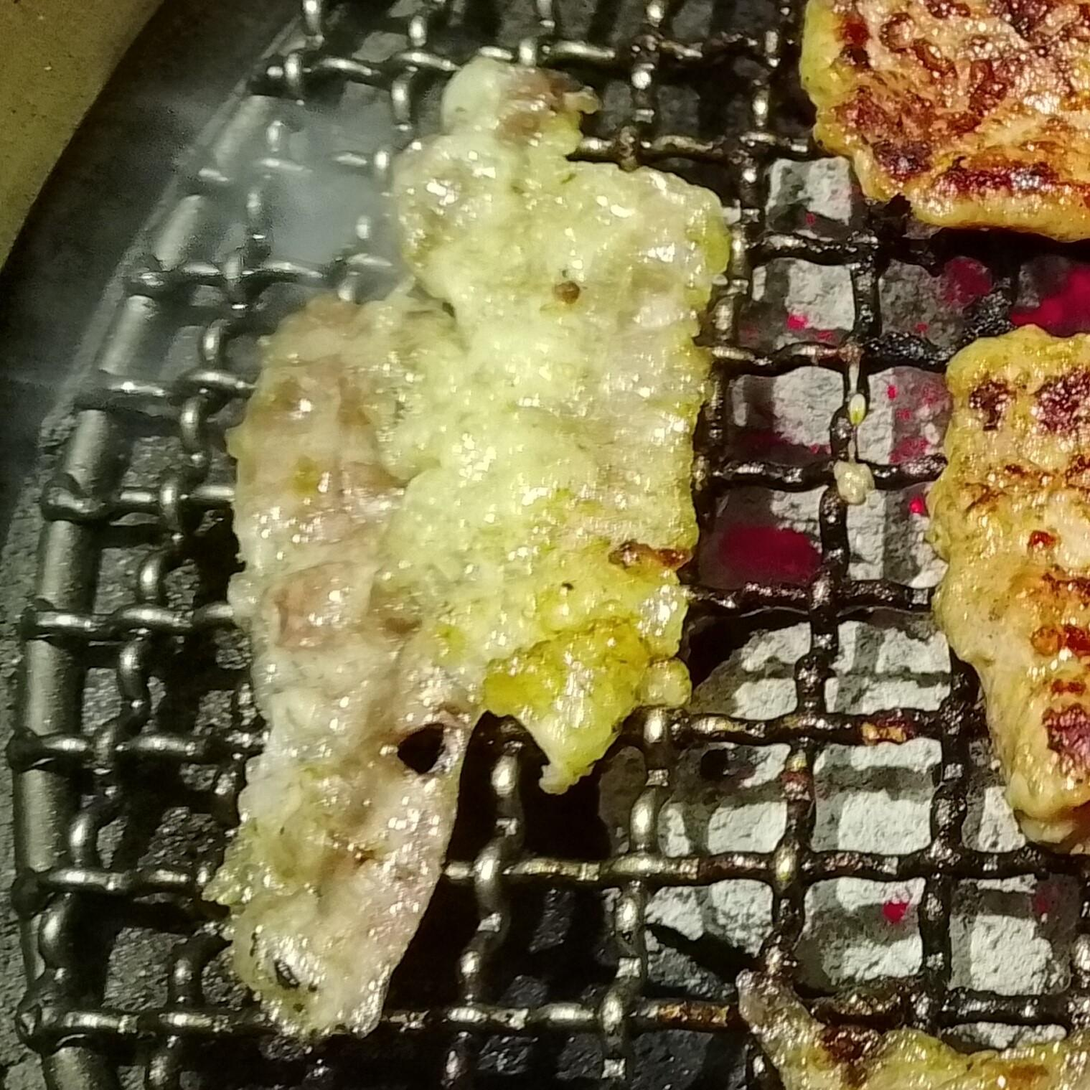Overcooked: (923, 319, 1089, 856), (800, 0, 1089, 247)
Well-Cooked: (206, 58, 734, 1043)
